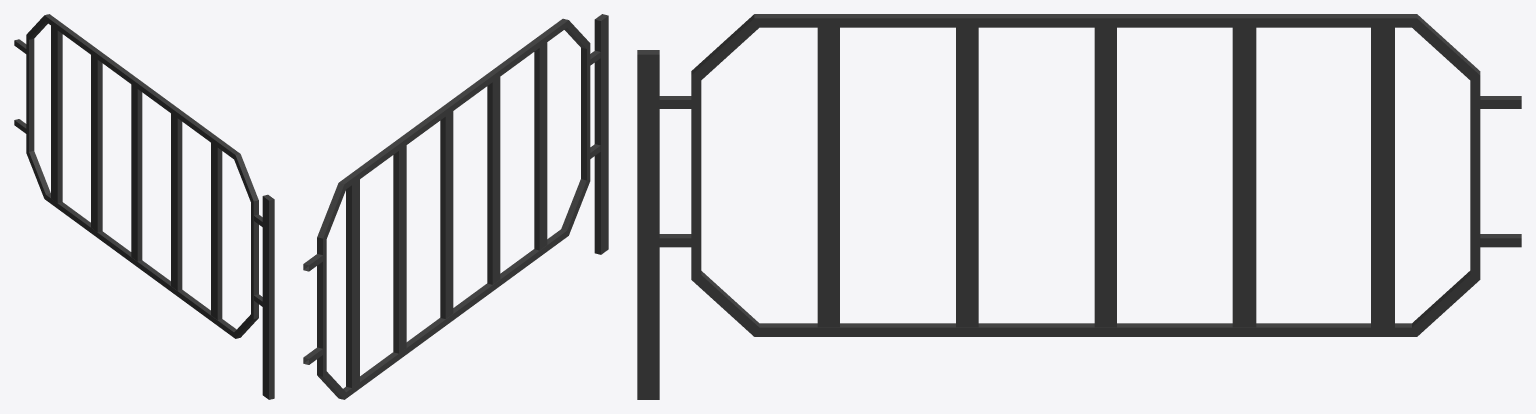
The model's file is Fence02.fbx.
3 renders of one model, left to right at view 1: azimuth 30°, elevation 25°; view 2: azimuth 150°, elevation 25°; view 3: azimuth 270°, elevation 25°, orthographic. The views are drawn at different scales.
Parts seen in each view (by area): view 1: Fence02; view 2: Fence02; view 3: Fence02.
Part boxes in pixels (x1=…): Fence02: x1=14, y1=14, x2=274, y2=399; Fence02: x1=303, y1=14, x2=608, y2=399; Fence02: x1=637, y1=14, x2=1521, y2=399.
Size of the model in its own units: 3.2 by 122 by 255.
